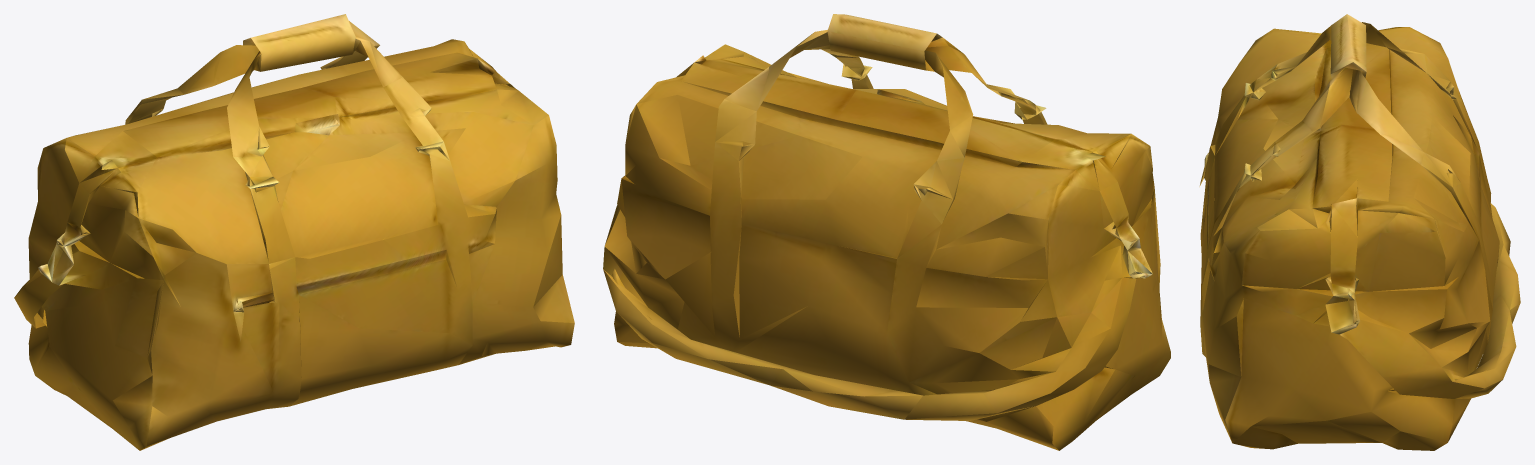
File: duffelBag.glb
3 renders of one model, left to right at view 1: azimuth 30°, elevation 25°; view 2: azimuth 150°, elevation 25°; view 3: azimuth 270°, elevation 25°, orthographic. The views are drawn at different scales.
Visible parts, largest first — view 1: model; view 2: model; view 3: model.
Part boxes in pixels (x1,y1,x2,y2): model: (14, 14, 574, 450); model: (603, 14, 1170, 450); model: (1199, 14, 1520, 450).
Size of the model in its own units: 1.9 by 1.2 by 1.1.
1 material, 1 textured.
